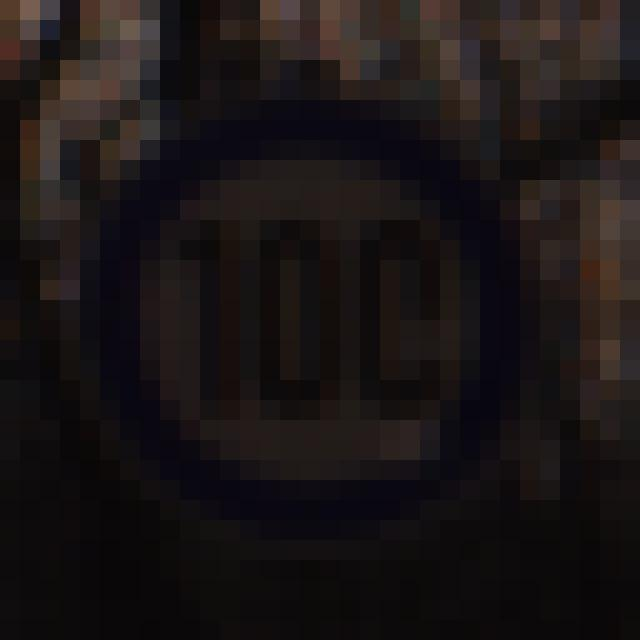SPEED LIMIT 100: (94, 124, 524, 510)
